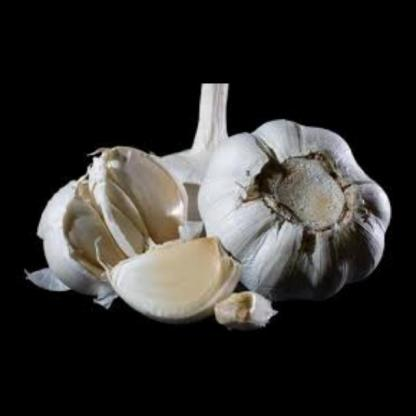garlic: (200, 117, 390, 307), (38, 147, 184, 287), (154, 83, 243, 241), (106, 231, 244, 329), (211, 290, 278, 331)
